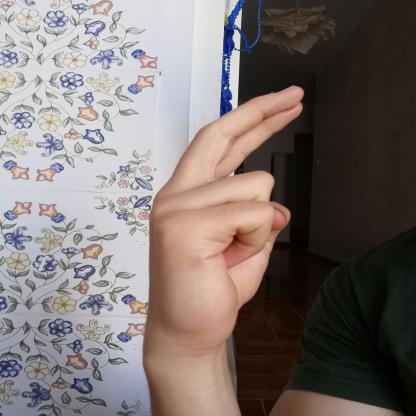ZAY: (125, 76, 318, 366)
